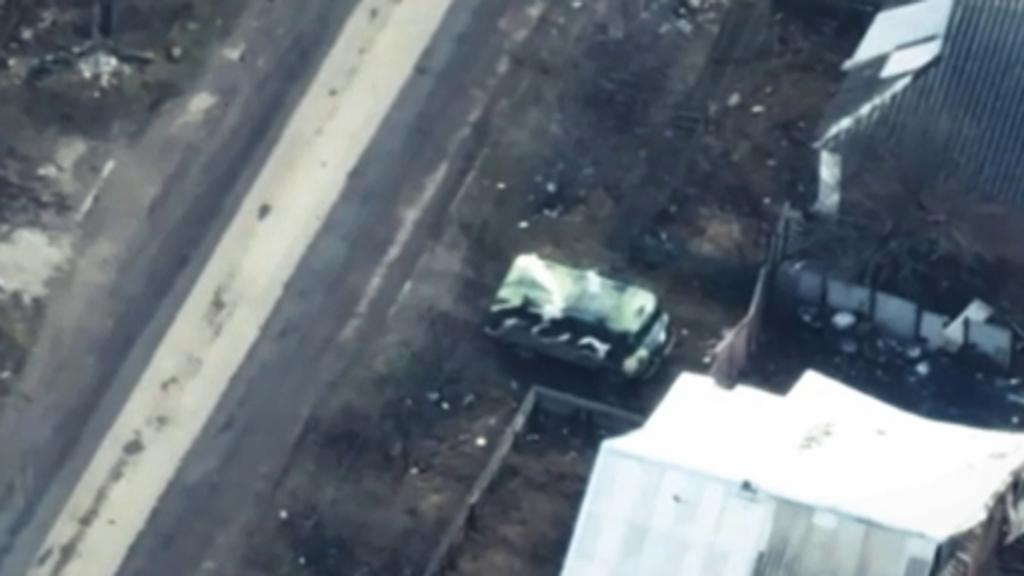CAR: (484, 248, 666, 384)
